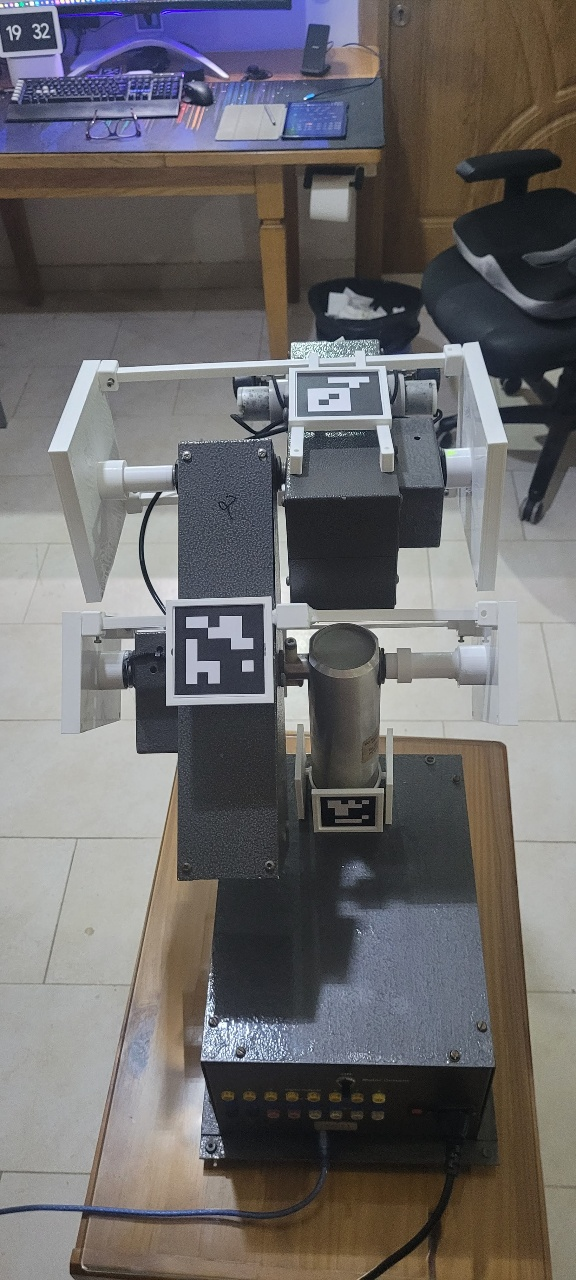Robot: (51, 373, 532, 1184)
